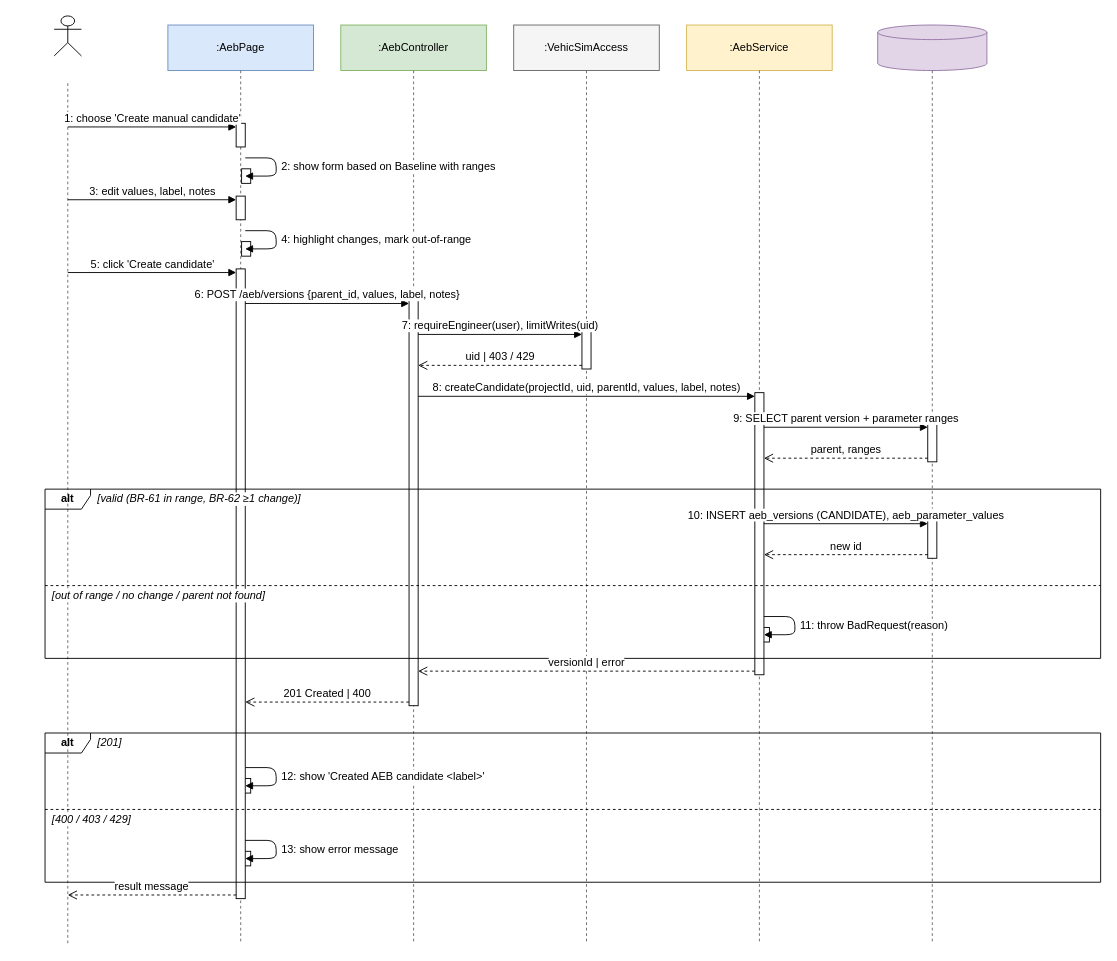
This 1117x961 diagram has some shape labels left out. Here are the shapes that lost their labels. From the top down, the box of each, then its label:
(53, 15, 81, 56): Engineer / Reviewer / Experiencer
(877, 24, 987, 71): MySQL
